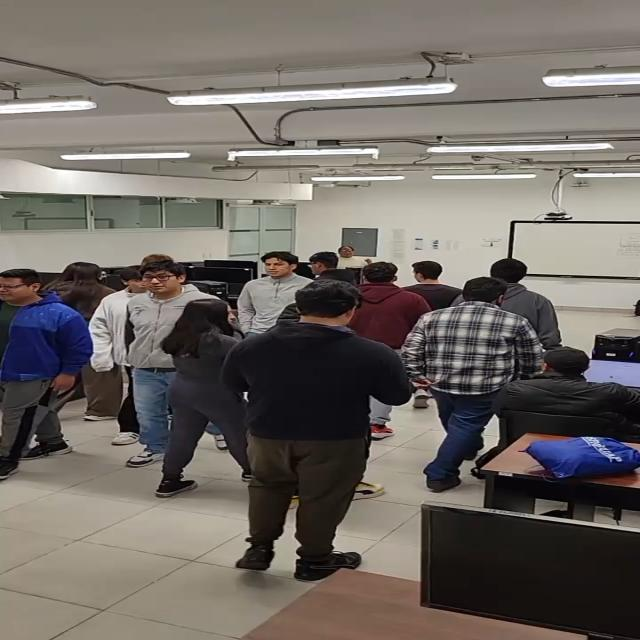Persona: (221, 278, 387, 585), (414, 276, 522, 490), (155, 297, 242, 499), (0, 267, 73, 486), (127, 264, 183, 456), (240, 246, 305, 322)
